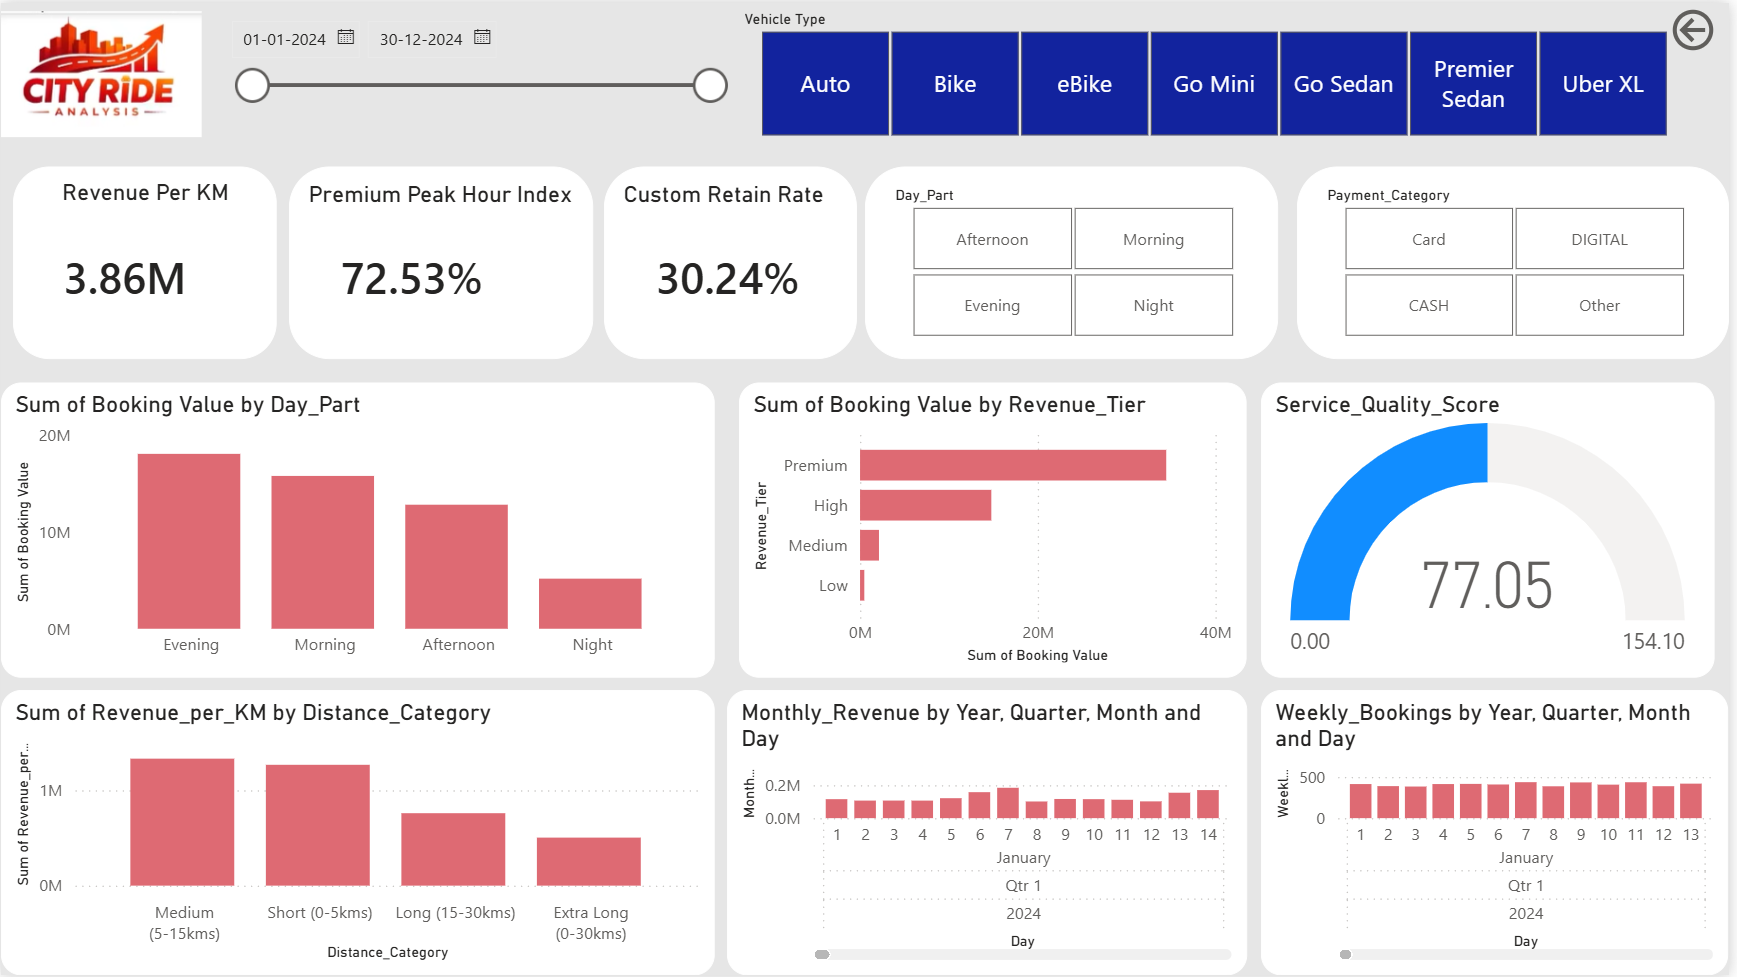

This screenshot's page, from the dashboard's own definition file:
{"tool":"powerbi","page":{"name":"Summary","canvas":[1280,720],"ordinal":6},"visuals":[{"type":"gauge","fields":{"Y":["rideBookings.Service_Quality_Score"]},"box":[933.8,281.2,336.2,218.8],"z":0},{"type":"cardVisual","title":"Premium Peak Hour Index","fields":{"Data":["rideBookings.Premium_Peak_Hour_Index"]},"box":[213.8,121.2,225,142.5],"z":1000},{"type":"cardVisual","title":"Revenue Per KM","fields":{"Data":["Sum(rideBookings.Revenue_per_KM)"]},"box":[8.8,121.2,195,142.5],"z":2000},{"type":"cardVisual","title":"Custom Retain Rate","fields":{"Data":["rideBookings.Customer Retain Rate"]},"box":[446.2,121.2,187.5,142.5],"z":3000},{"type":"clusteredColumnChart","fields":{"Category":["rideBookings.Day_Part"],"Y":["Sum(rideBookings.Booking Value)"]},"box":[0,281.2,528.8,218.8],"z":4000},{"type":"clusteredBarChart","fields":{"Category":["rideBookings.Revenue_Tier"],"Y":["Sum(rideBookings.Booking Value)"]},"box":[546.2,281.2,376.2,218.8],"z":5000},{"type":"clusteredColumnChart","fields":{"Category":["rideBookings.Distance_Category"],"Y":["Sum(rideBookings.Revenue_per_KM)"]},"box":[0,508.8,528.8,211.2],"z":6000},{"type":"lineStackedColumnComboChart","fields":{"Y":["rideBookings.Monthly_Revenue"],"Category":["rideBookings.Date.Variation.Date Hierarchy.Year","rideBookings.Date.Variation.Date Hierarchy.Quarter","rideBookings.Date.Variation.Date Hierarchy.Month","rideBookings.Date.Variation.Date Hierarchy.Day"]},"box":[537.5,508.8,385,211.2],"z":7000},{"type":"lineStackedColumnComboChart","fields":{"Y":["rideBookings.Weekly_Bookings"],"Category":["rideBookings.Date.Variation.Date Hierarchy.Year","rideBookings.Date.Variation.Date Hierarchy.Quarter","rideBookings.Date.Variation.Date Hierarchy.Month","rideBookings.Date.Variation.Date Hierarchy.Day"]},"box":[933.8,508.8,346.2,211.2],"z":8000},{"type":"slicer","fields":{"Values":["rideBookings.Date"]},"box":[157.5,3.8,388.8,96.2],"z":9000},{"type":"slicer","fields":{"Values":["rideBookings.Vehicle Type"]},"box":[537.5,0,720,105],"z":10000},{"type":"slicer","fields":{"Values":["rideBookings.Payment_Category"]},"box":[960,121.2,320,142.5],"z":11000},{"type":"slicer","fields":{"Values":["rideBookings.Day_Part"]},"box":[640,121.2,306.2,142.5],"z":12000},{"type":"actionButton","box":[1233.8,0,46.2,40],"z":13000},{"type":"image","box":[0,0,148.8,105],"z":14000}]}

Visuals, with their boxes in screenshot pixels (x1, y1, x2, y2), scaled from the page's 1280x720 canvas onto the 1737x977 screenshot:
gauge - rideBookings.Service_Quality_Score: x1=1267, y1=382, x2=1723, y2=678
"Premium Peak Hour Index" cardVisual: x1=290, y1=164, x2=595, y2=358
"Revenue Per KM" cardVisual: x1=12, y1=164, x2=277, y2=358
"Custom Retain Rate" cardVisual: x1=606, y1=164, x2=860, y2=358
clusteredColumnChart - rideBookings.Day_Part x Sum(rideBookings.Booking Value): x1=0, y1=382, x2=718, y2=678
clusteredBarChart - rideBookings.Revenue_Tier x Sum(rideBookings.Booking Value): x1=741, y1=382, x2=1252, y2=678
clusteredColumnChart - rideBookings.Distance_Category x Sum(rideBookings.Revenue_per_KM): x1=0, y1=690, x2=718, y2=976
lineStackedColumnComboChart - rideBookings.Monthly_Revenue x rideBookings.Date.Variation.Date Hierarchy.Year: x1=729, y1=690, x2=1252, y2=976
lineStackedColumnComboChart - rideBookings.Weekly_Bookings x rideBookings.Date.Variation.Date Hierarchy.Year: x1=1267, y1=690, x2=1736, y2=976
slicer - rideBookings.Date: x1=214, y1=5, x2=741, y2=136
slicer - rideBookings.Vehicle Type: x1=729, y1=0, x2=1706, y2=142
slicer - rideBookings.Payment_Category: x1=1303, y1=164, x2=1736, y2=358
slicer - rideBookings.Day_Part: x1=868, y1=164, x2=1284, y2=358
actionButton: x1=1674, y1=0, x2=1736, y2=54
image: x1=0, y1=0, x2=202, y2=142
